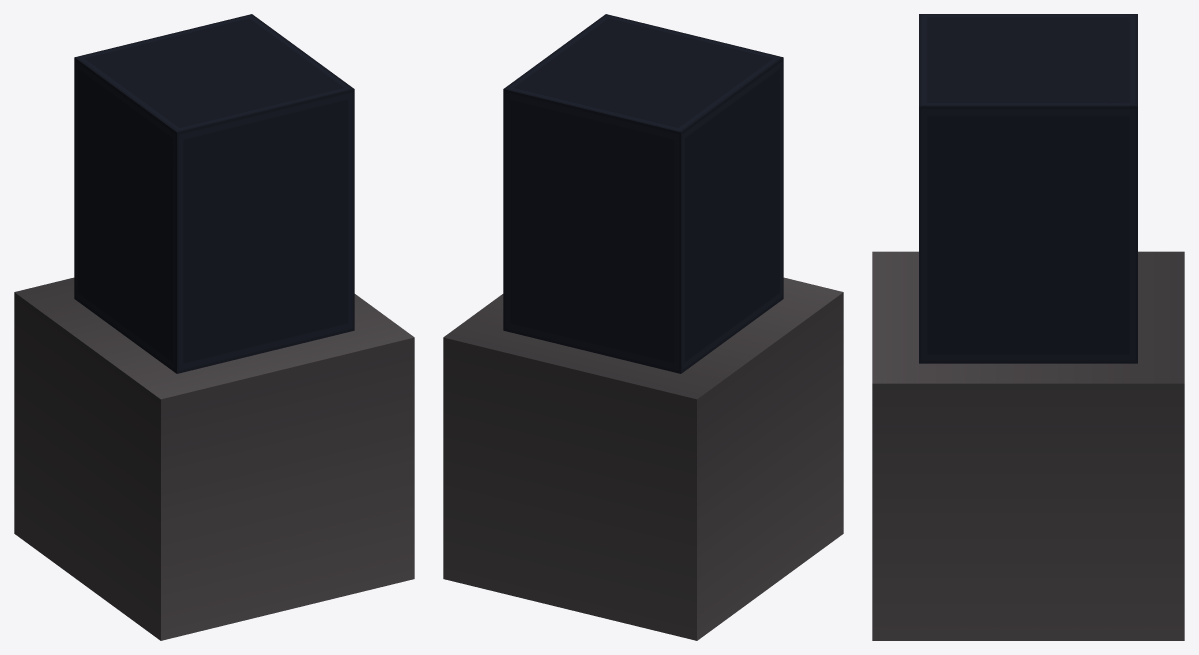
Rendered from PRP_Cage.glb.
The picture shows the model from 3 angles, left to right: view 1: azimuth 30°, elevation 25°; view 2: azimuth 150°, elevation 25°; view 3: azimuth 270°, elevation 25°; orthographic projection. The views are drawn at different scales.
Parts seen in each view (by area): view 1: PRP_Cage; view 2: PRP_Cage; view 3: PRP_Cage.
Boxes of the visible parts, x1,y1,x2,y2 form: PRP_Cage: (14,14,414,640); PRP_Cage: (443,14,843,640); PRP_Cage: (872,14,1184,640).
Size of the model in its own units: 1.1 by 2 by 1.1.
Materials: 1 (1 with a texture image).
